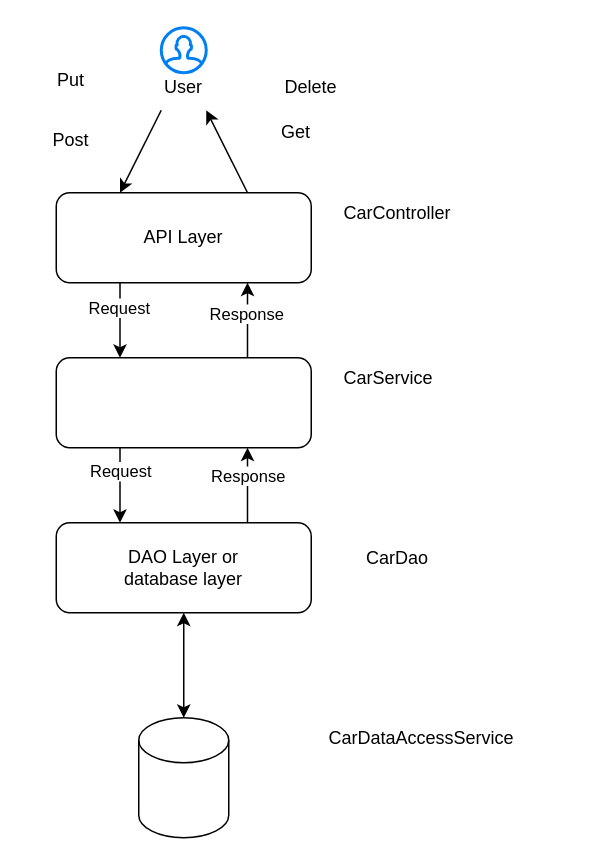
The diagram is 591 pixels wide and 864 high, and some of its shapes have lost their labels. The box of each missing label's shape, as (x1, y1, x2, y2) in pixels:
Bussines Layer: (55, 356, 311, 448)
DB: (137, 716, 229, 838)
